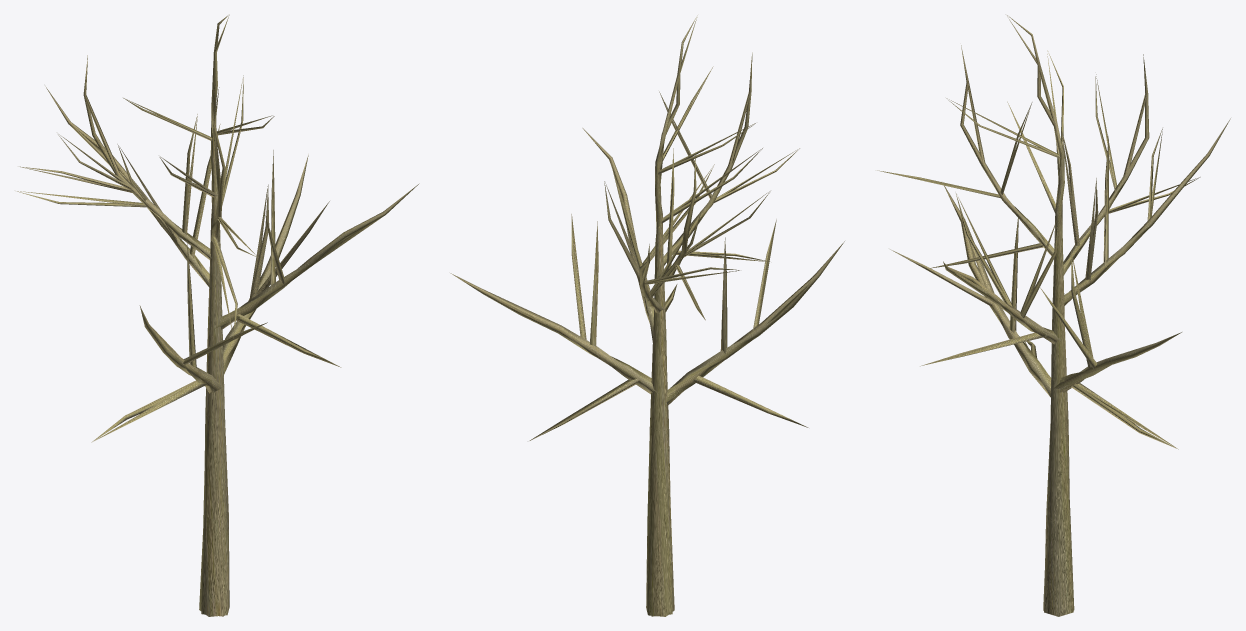
The model's file is tree_dead_snag.glb.
The picture shows the model from 3 angles, left to right: view 1: azimuth 30°, elevation 25°; view 2: azimuth 150°, elevation 25°; view 3: azimuth 270°, elevation 25°; orthographic projection. The views are drawn at different scales.
Parts seen in each view (by area): view 1: LOD0_trunk, LOD1_trunk; view 2: LOD0_trunk, LOD1_trunk; view 3: LOD0_trunk, LOD1_trunk.
Boxes of the visible parts, x1=… form: LOD0_trunk: x1=18, y1=15, x2=418, y2=616; LOD1_trunk: x1=17, y1=15, x2=381, y2=616; LOD0_trunk: x1=450, y1=17, x2=844, y2=616; LOD1_trunk: x1=456, y1=17, x2=816, y2=616; LOD0_trunk: x1=877, y1=15, x2=1230, y2=616; LOD1_trunk: x1=881, y1=16, x2=1199, y2=615.
Bounding box in the file's own units: 4.59 × 9 × 4.94.
Materials: 1 (1 with a texture image).
